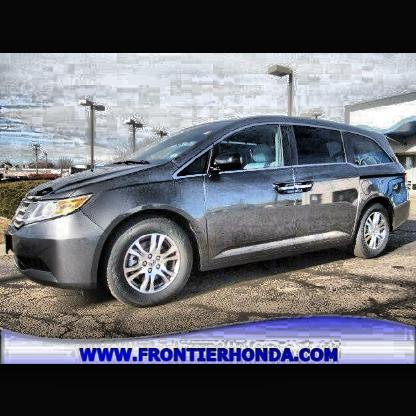Honda Odyssey Minivan 2012: (6, 116, 412, 311)
